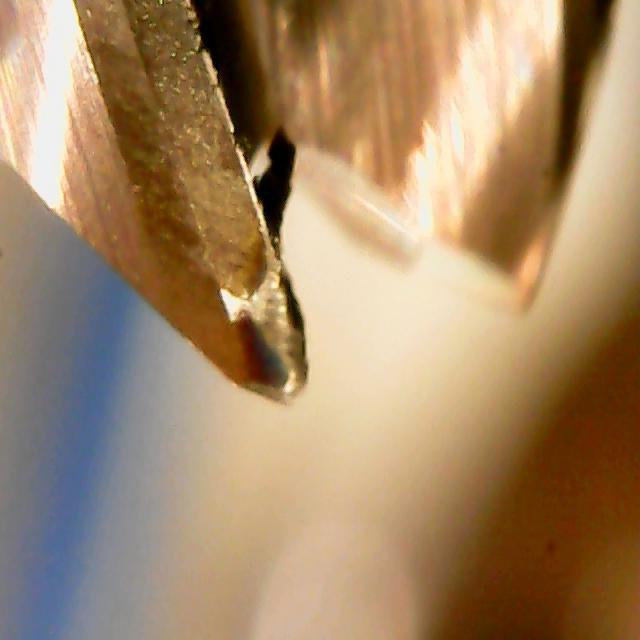Tool-wear-class-1: (185, 88, 344, 415)
